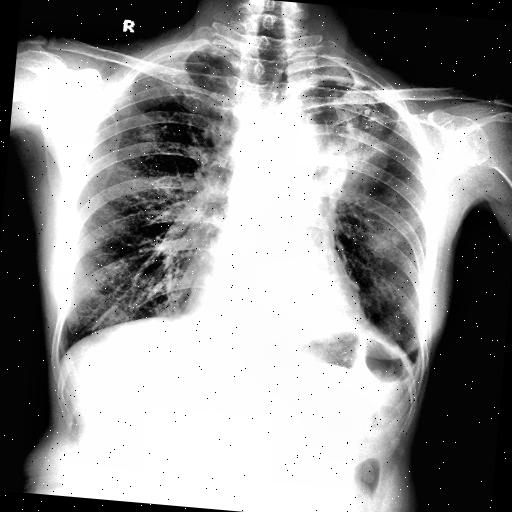0- Aortic enlargement: (272, 110, 320, 164)
10- Pleural effusion: (395, 342, 424, 374)
11- Pleural thickening: (289, 50, 403, 102), (304, 52, 403, 104), (146, 42, 203, 72), (395, 342, 424, 374)
13- Pulmonary fibrosis: (164, 45, 228, 113), (151, 62, 214, 113), (325, 242, 363, 299), (344, 103, 380, 136)
4- Consolidation: (300, 79, 398, 190)
6- Infiltration: (372, 205, 410, 268)
7- Lung Opacity: (292, 82, 394, 192), (309, 79, 395, 184), (372, 205, 410, 268)
8- Nodule-Mass: (300, 79, 398, 190), (309, 79, 395, 184), (158, 65, 178, 81), (362, 106, 372, 114), (346, 122, 353, 130), (368, 115, 375, 122), (338, 133, 344, 137), (364, 125, 369, 129)
